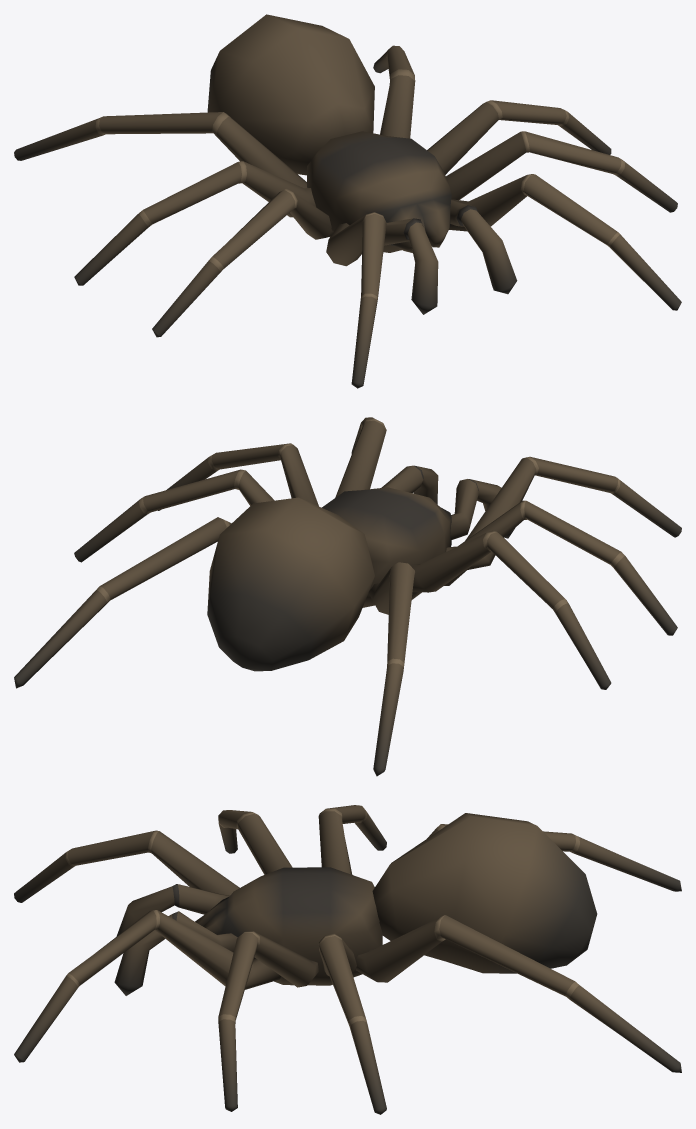
Rendered from kit-tarantula.glb.
3 renders of one model, top to bottom at view 1: azimuth 30°, elevation 25°; view 2: azimuth 150°, elevation 25°; view 3: azimuth 270°, elevation 25°, orthographic. The views are drawn at different scales.
Parts seen in each view (by area): view 1: base; view 2: base; view 3: base.
Boxes of the visible parts, x1=… form: base: x1=14, y1=14, x2=681, y2=388; base: x1=14, y1=417, x2=681, y2=776; base: x1=14, y1=805, x2=681, y2=1114.
Size of the model in its own units: 1.75 by 0.5019 by 1.84.
